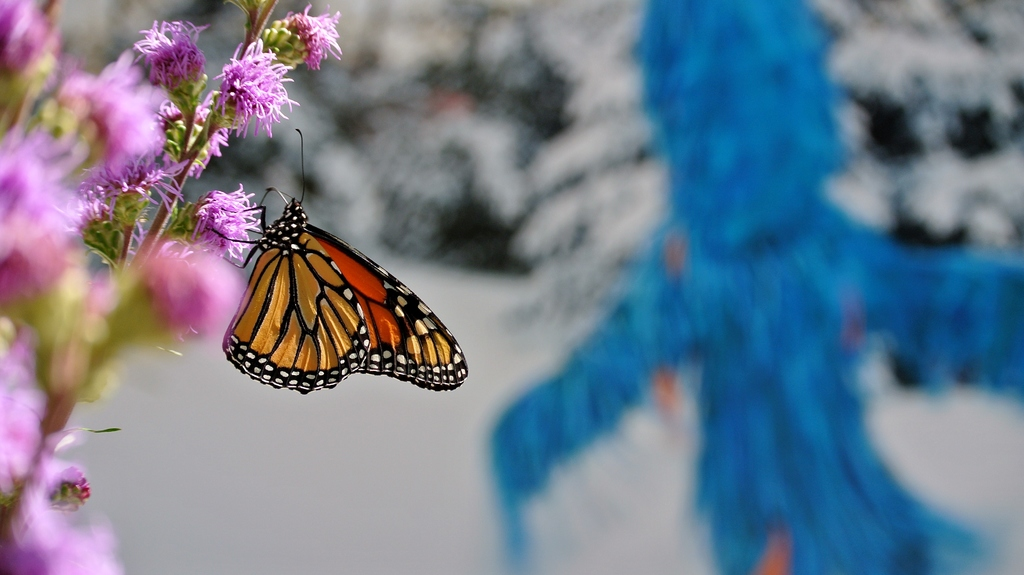Butterfly: (198, 180, 486, 408)
